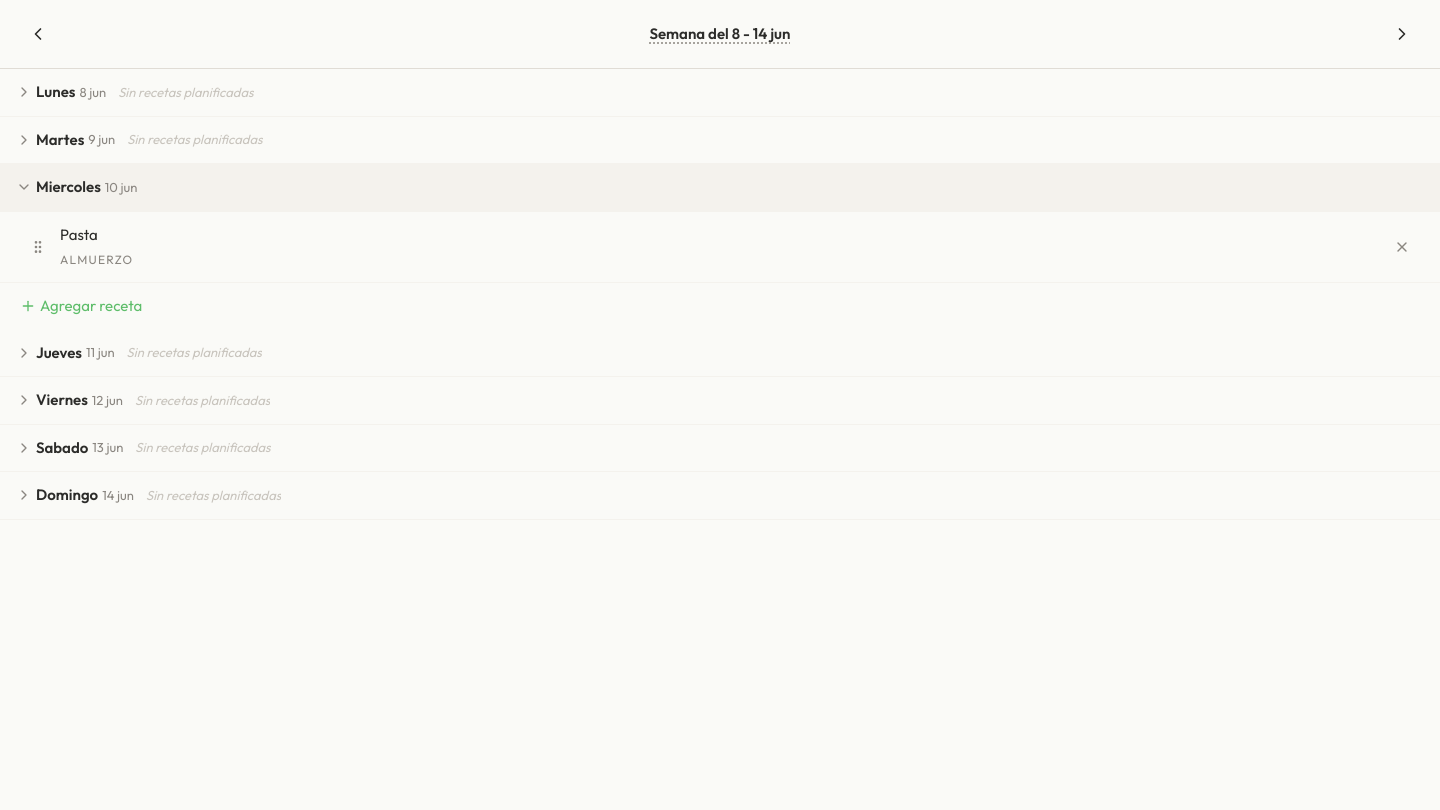
Test: PlannerPage › edit sheet shows meal type chips and save button
Step 1. Click the text "Pasta" → coordinates (79, 234), box top-left (60, 224), bottom-right (98, 244)
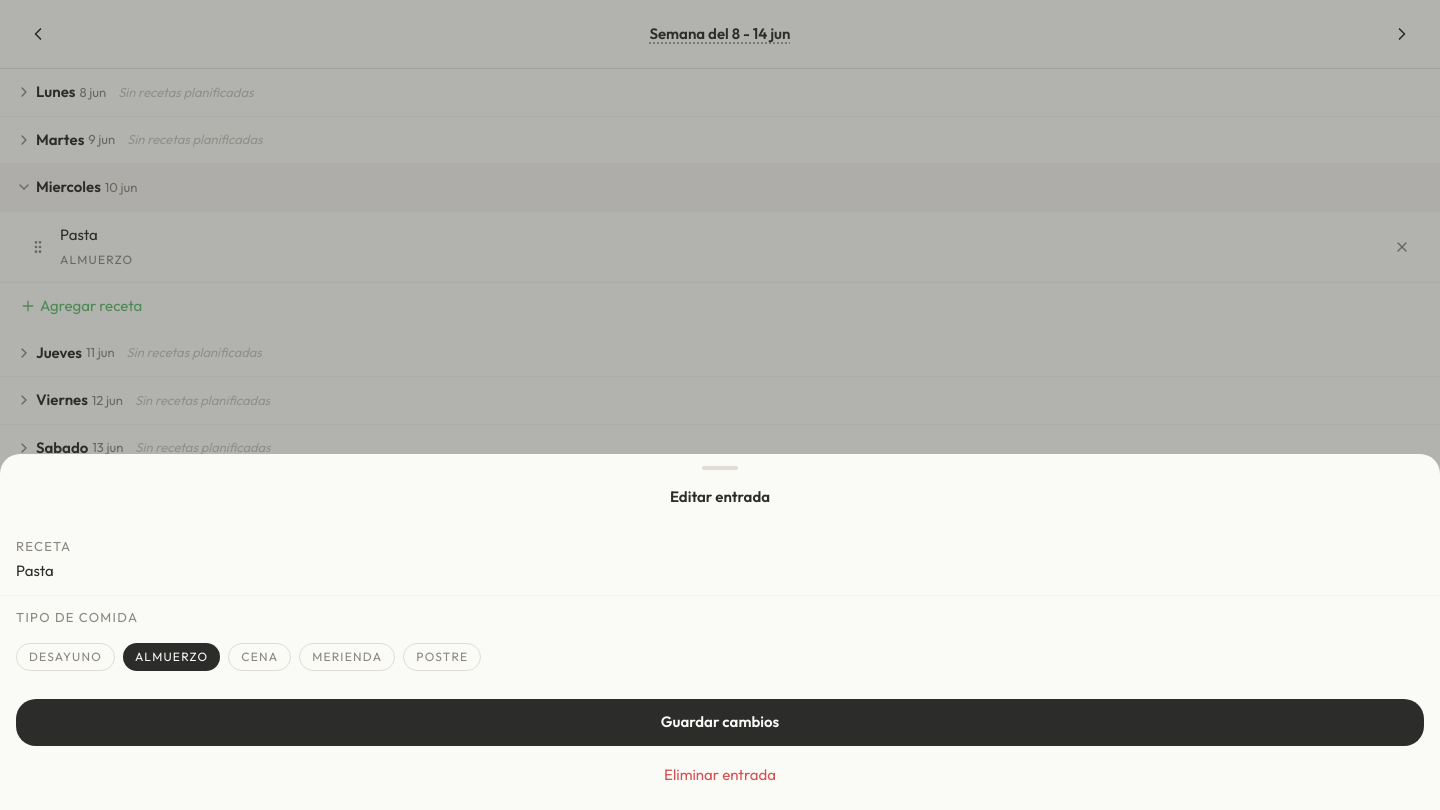
Expected: the text "Editar entrada" is shown, top-left (670, 487), bottom-right (770, 506)
Expected: the button "Guardar cambios" is shown, top-left (16, 699), bottom-right (1424, 746)
Expected: the button "Eliminar entrada" is shown, top-left (664, 764), bottom-right (776, 786)
